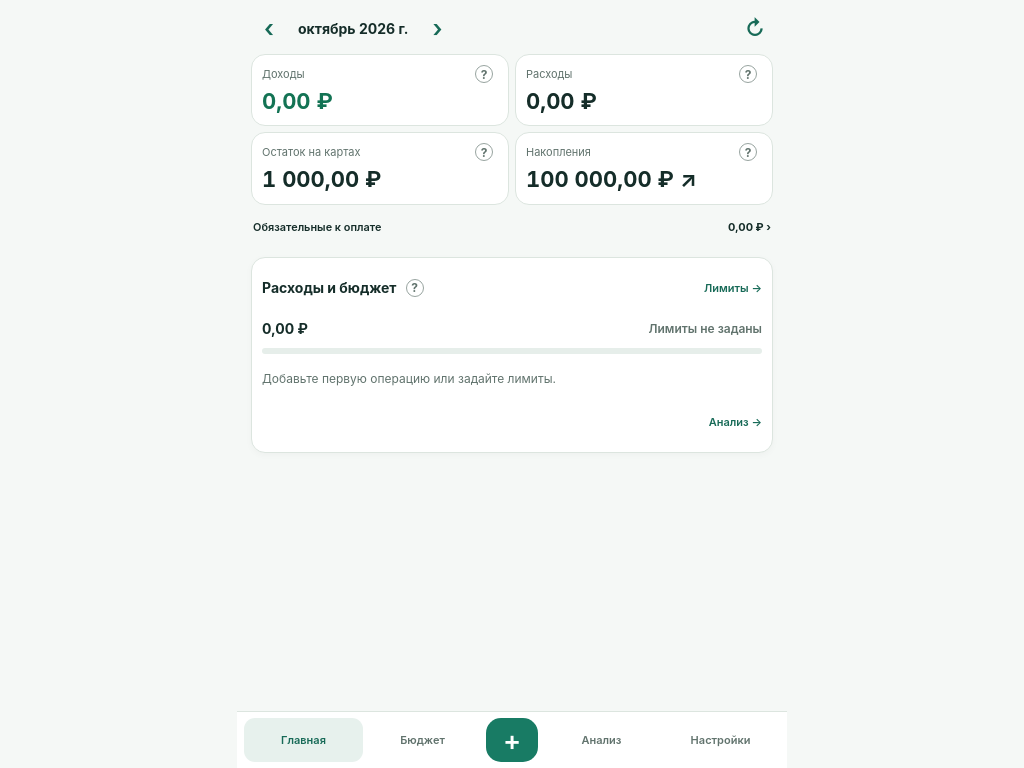
Test case: редактирует обе стороны перевода из истории счёта
Click the button "Бюджет": (422, 740) top-left (363, 718), bottom-right (482, 762)
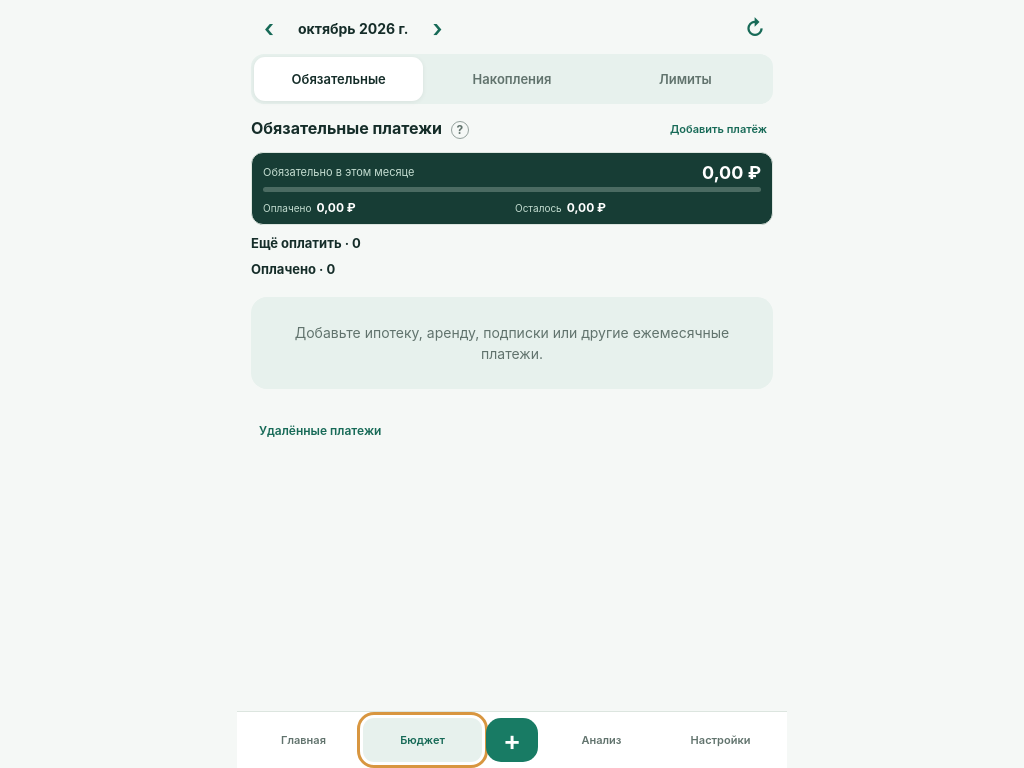
Click the button "Накопления": (512, 79) top-left (427, 57), bottom-right (597, 101)
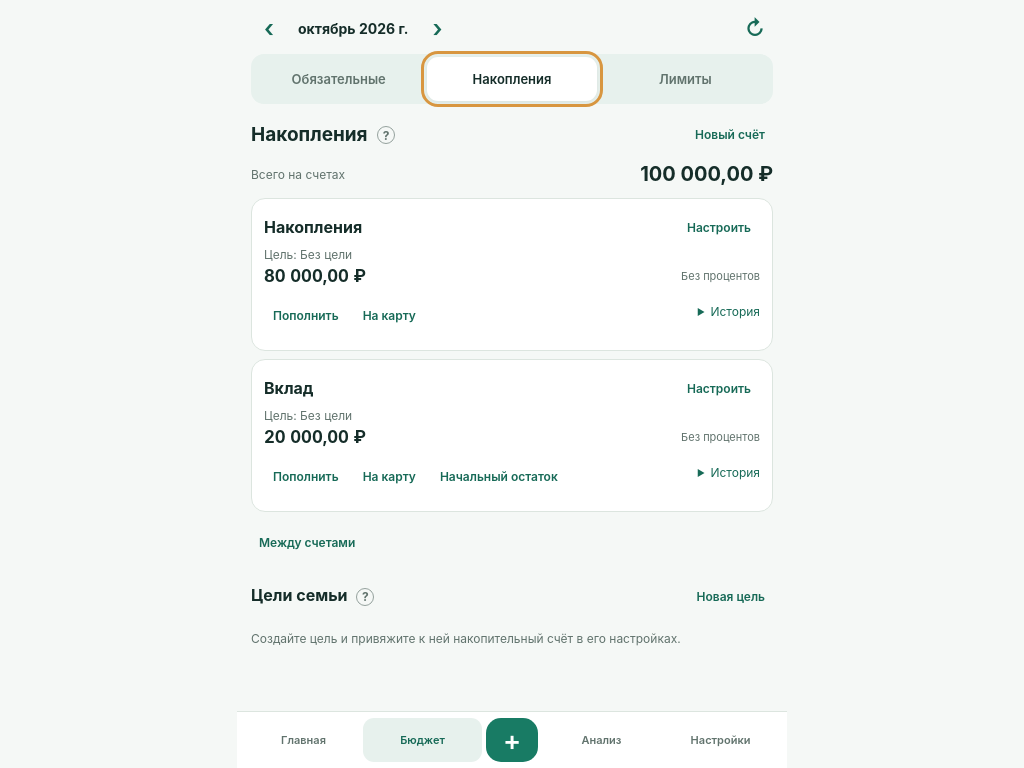
Click the 2nd heading "История": (735, 472) top-left (710, 465), bottom-right (760, 480)
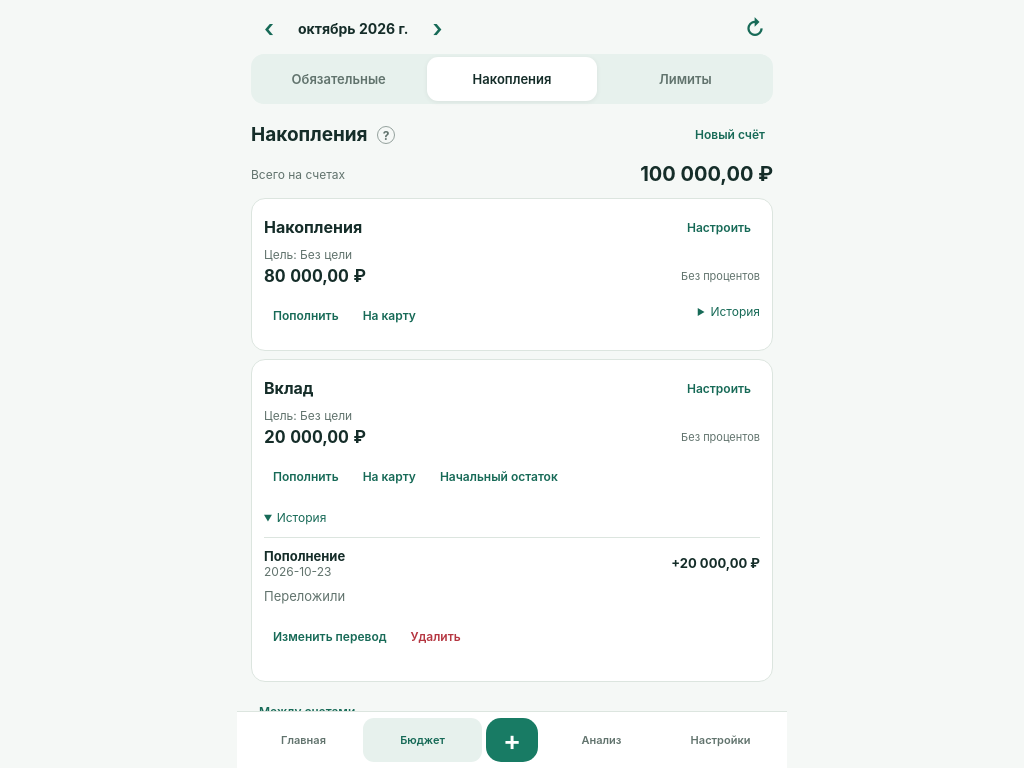
Click the button "Изменить перевод": (330, 636) top-left (264, 614), bottom-right (396, 658)
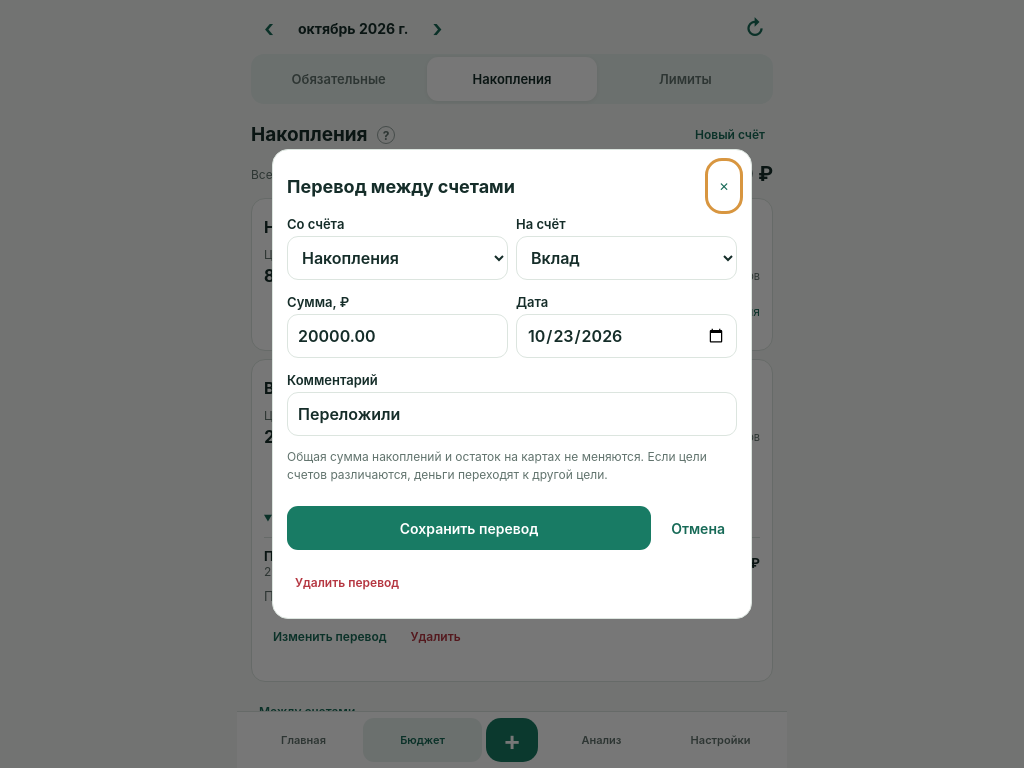
Replace the text in the field labelled "Сумма, ₽" with "30000": (398, 336) top-left (287, 314), bottom-right (508, 358)
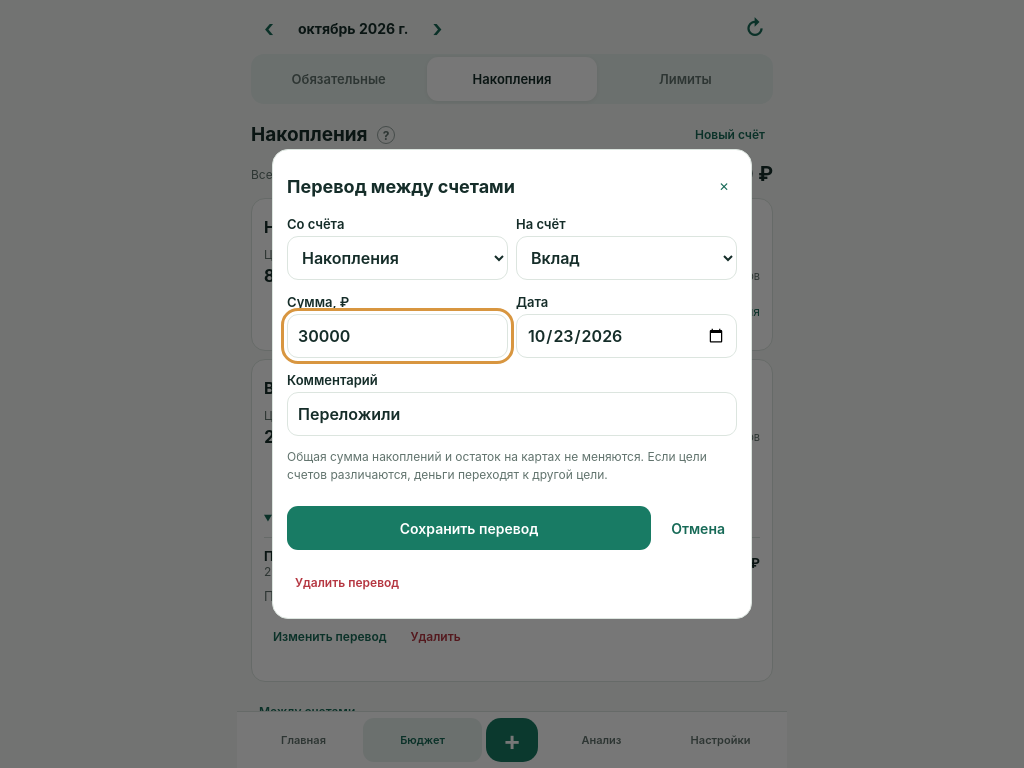
Click the button "Сохранить перевод": (469, 528) top-left (287, 506), bottom-right (651, 550)
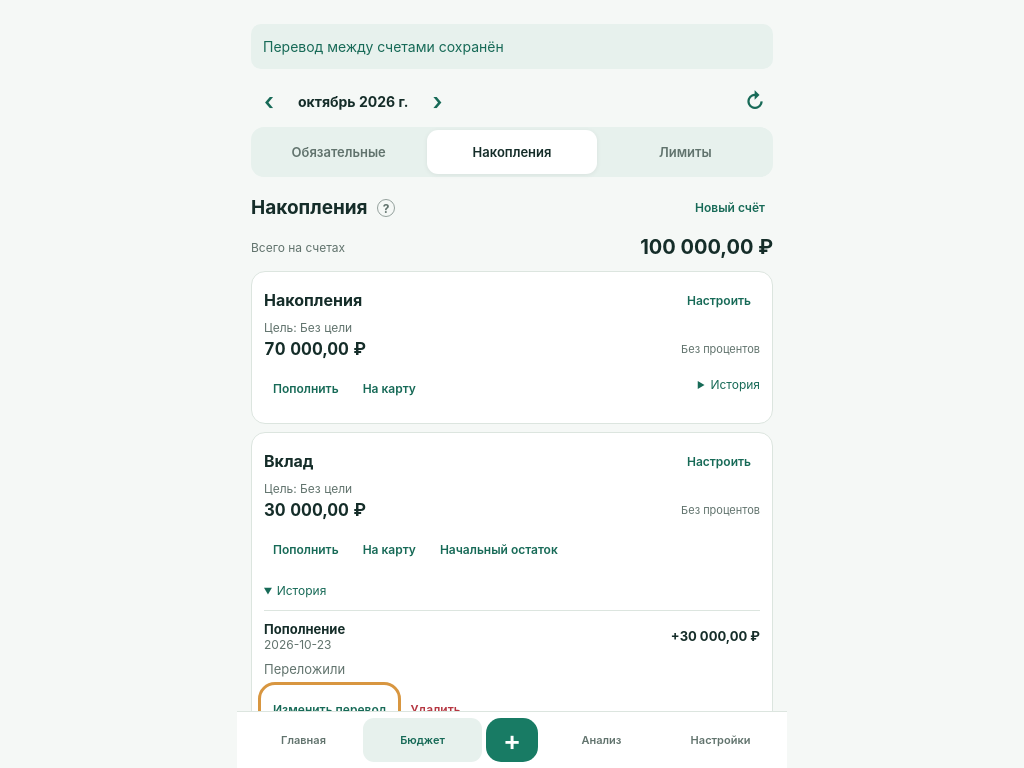
Check: the text "Перевод между счетами сохранён" is shown, box top-left (251, 24), bottom-right (773, 69)
